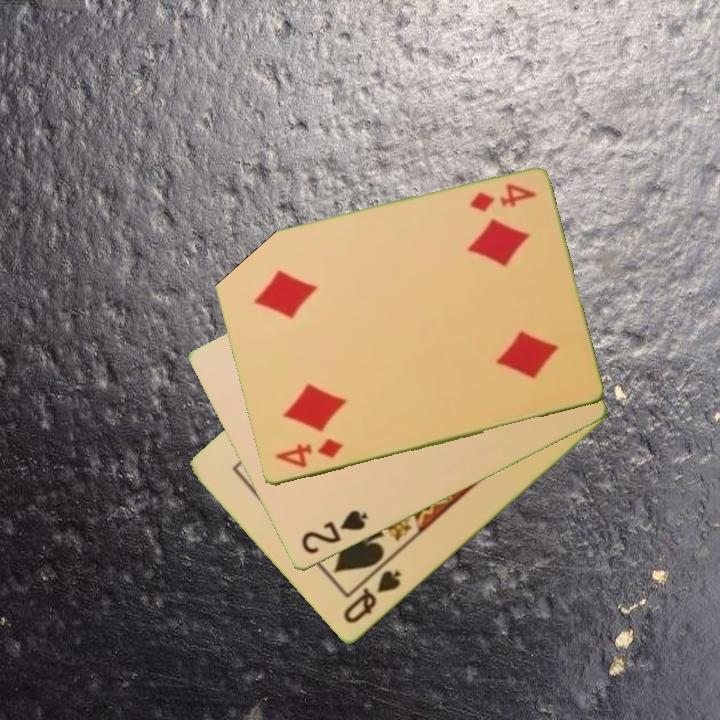2s: (297, 506, 371, 558)
4d: (271, 435, 347, 471), (465, 180, 540, 216)
Qs: (339, 567, 404, 628)
